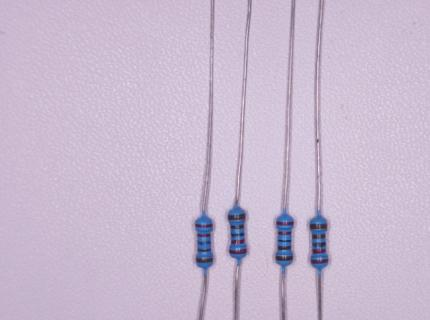Black band: (313, 242, 326, 248), (198, 241, 211, 245), (230, 233, 244, 236), (278, 240, 291, 242)
Brown band: (228, 213, 246, 220), (276, 255, 294, 260), (309, 224, 327, 229), (197, 258, 213, 263), (231, 224, 244, 229), (278, 246, 291, 250), (312, 234, 325, 238), (198, 249, 210, 252)
Red band: (229, 249, 247, 254), (311, 259, 328, 264), (231, 239, 245, 244), (313, 249, 326, 254), (277, 222, 293, 226), (195, 224, 213, 227), (197, 234, 211, 237), (278, 232, 292, 235)
